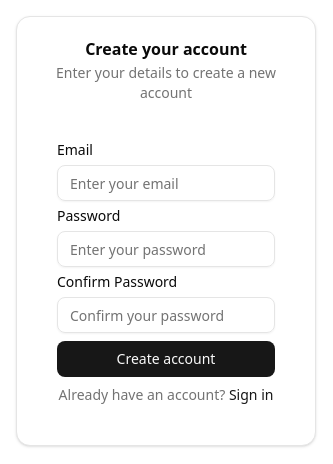
Test: Register › should show loading state when submitting
Type "test@example.com" into the field labelled "Email" at (166,183), box [57,165,275,201]
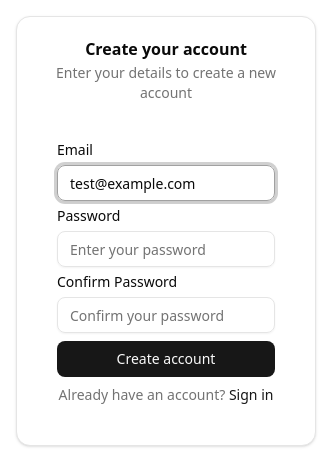
Type "password123" into the password field labelled "Password" at (166,249), box [57,231,275,267]
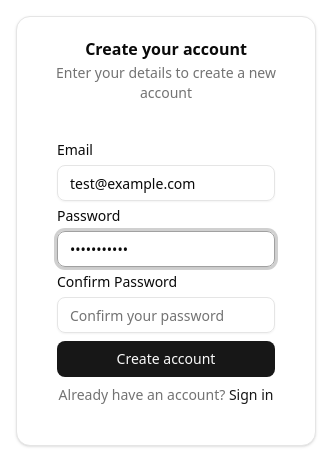
Type "password123" into the password field labelled "Confirm Password" at (166,315), box [57,297,275,333]
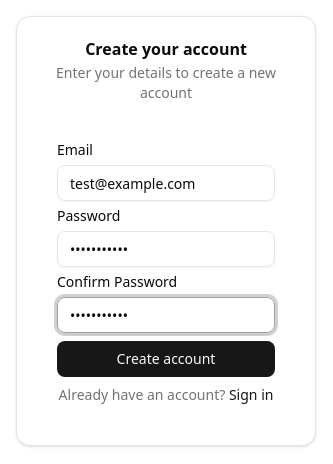
Click the button "Create account" at (166,359), box [57,341,275,377]
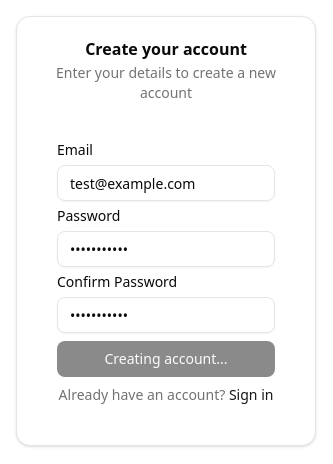
Expected: the button "Creating account..." is disabled, [57,341,275,377]
